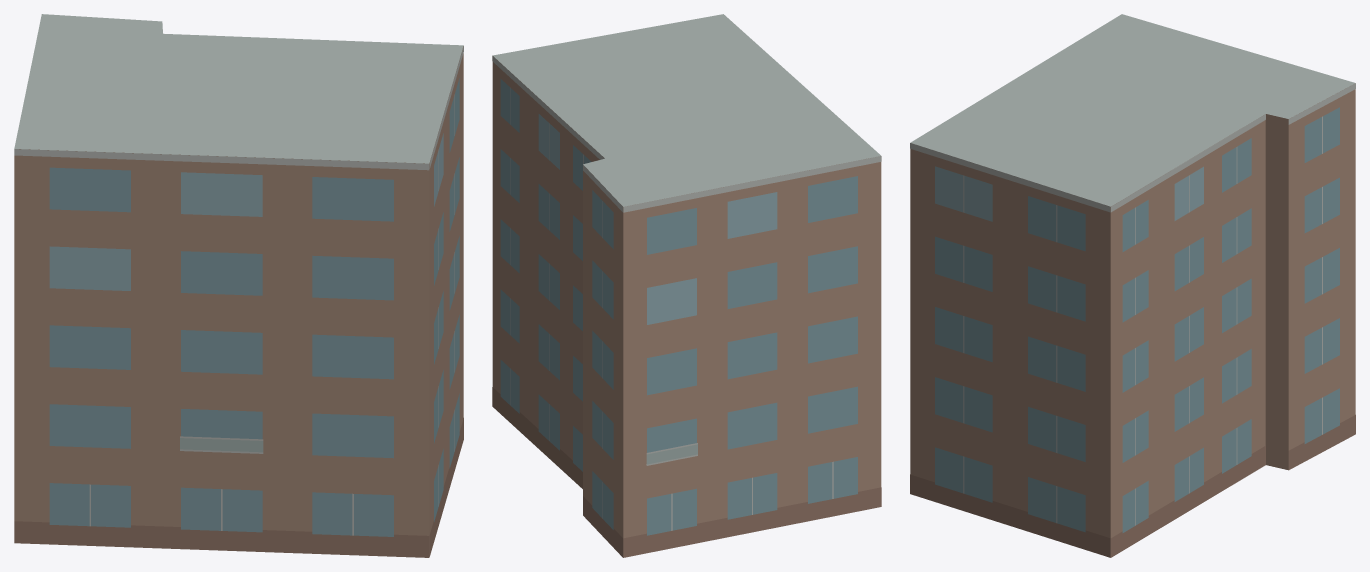
The model's file is survey-upis-32940794.glb.
3 views of the same model, side by side, from view 1: azimuth 30°, elevation 25°; view 2: azimuth 150°, elevation 25°; view 3: azimuth 270°, elevation 25° (orthographic). The views are drawn at different scales.
Visible parts, largest first — view 1: survey-upis-32940794.tmp; view 2: survey-upis-32940794.tmp; view 3: survey-upis-32940794.tmp.
Boxes of the visible parts, x1,y1,x2,y2 form: survey-upis-32940794.tmp: (14, 14, 463, 557); survey-upis-32940794.tmp: (492, 14, 881, 557); survey-upis-32940794.tmp: (910, 14, 1355, 557).
Size of the model in its own units: 17.07 by 14.5 by 16.68.
